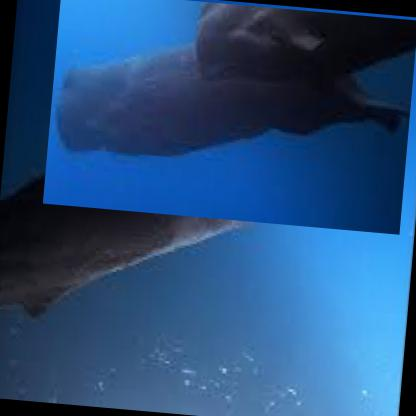sperm_whale: (43, 0, 415, 235), (0, 67, 277, 342)
